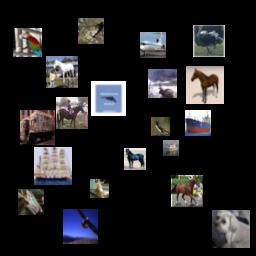airplane: (91, 81, 126, 116), (140, 32, 166, 58)
bird: (63, 209, 98, 244), (193, 25, 225, 57), (13, 28, 42, 57), (151, 117, 170, 136)
cat: (90, 179, 109, 198)
deer: (148, 69, 177, 98)
dog: (212, 210, 250, 248)
frog: (18, 189, 44, 215), (78, 18, 104, 44)
ship: (34, 147, 72, 185), (185, 110, 211, 136), (163, 140, 179, 156)
truck: (20, 110, 55, 145)
